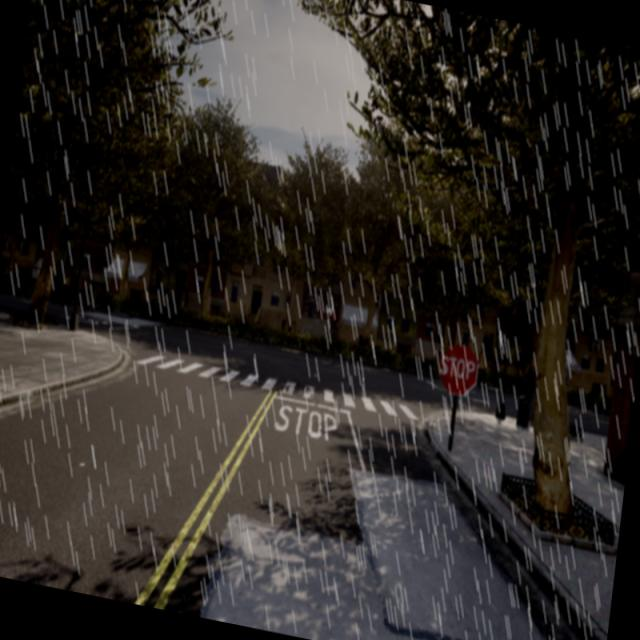stop sign: (435, 340, 479, 398)
